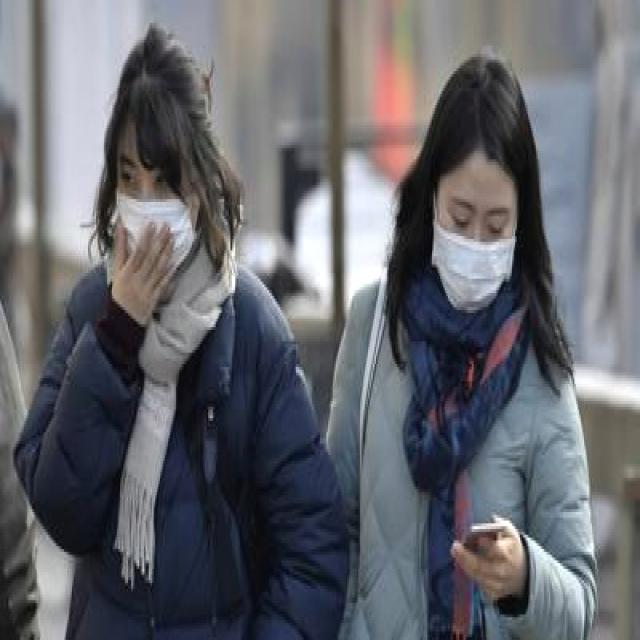face_mask: (434, 193, 518, 316), (115, 151, 194, 279)
hand_noglove: (98, 214, 174, 356), (453, 504, 534, 608)
head_nohelmet: (437, 54, 520, 182), (117, 48, 213, 151)
person: (332, 59, 610, 640)
